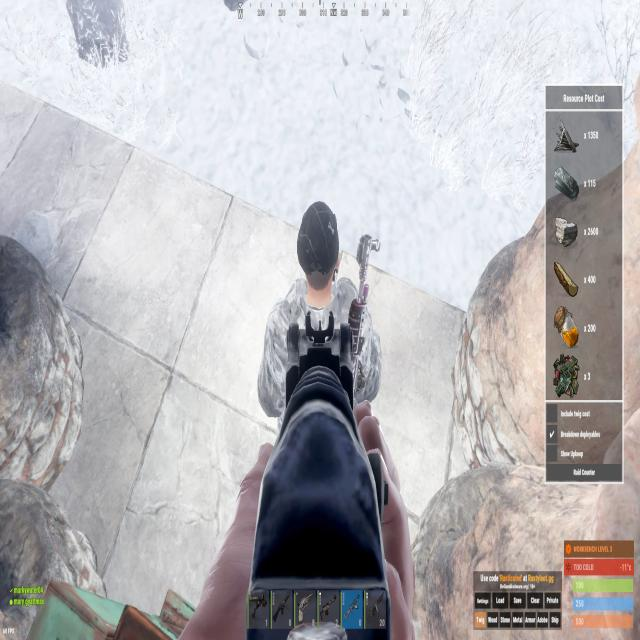Player: (253, 194, 384, 407)
